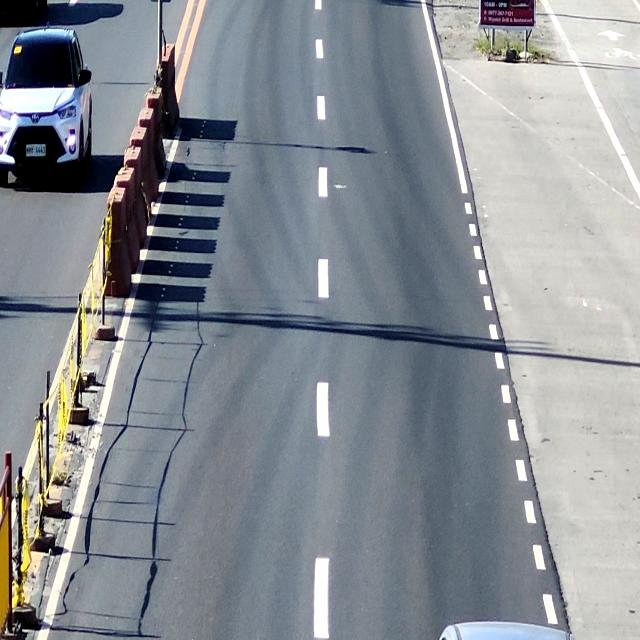Car: (435, 621, 577, 640)
